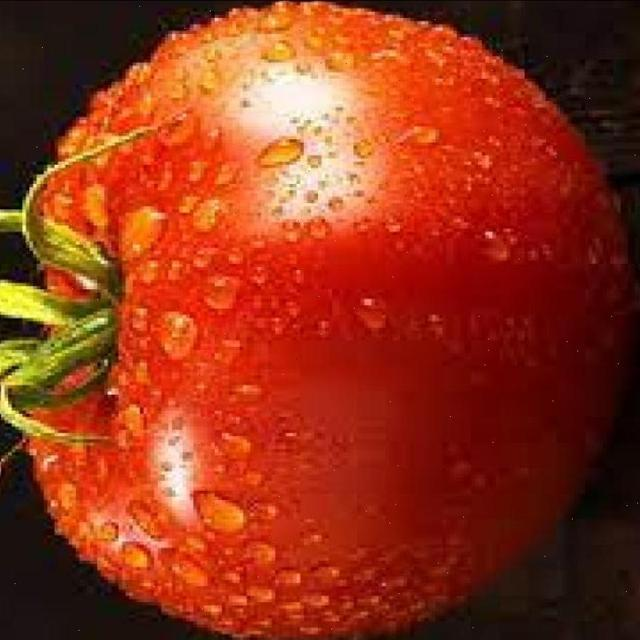Healthy Fruit: (5, 0, 420, 421)
